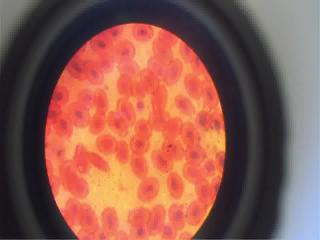cell: (101, 205, 124, 233), (133, 184, 165, 203), (117, 97, 139, 123), (75, 208, 98, 230), (72, 56, 92, 81), (148, 55, 166, 82), (164, 174, 184, 198), (107, 114, 131, 133), (126, 156, 152, 173), (70, 104, 90, 125), (115, 42, 138, 60), (168, 62, 186, 85), (140, 67, 157, 91), (150, 152, 170, 172), (175, 96, 195, 116), (90, 32, 108, 54), (182, 163, 205, 180), (204, 81, 220, 105), (89, 112, 109, 131), (129, 135, 151, 152), (148, 209, 164, 232), (96, 86, 110, 112), (194, 183, 213, 202), (51, 85, 71, 103), (135, 117, 155, 135), (178, 40, 196, 60), (134, 24, 156, 40), (185, 147, 209, 161), (196, 113, 213, 132), (77, 89, 97, 105), (70, 180, 90, 196), (96, 136, 117, 151), (129, 207, 150, 222), (184, 125, 202, 142), (130, 225, 150, 240), (116, 76, 133, 93), (60, 116, 74, 136), (188, 206, 202, 226), (90, 62, 103, 83), (169, 208, 185, 224)
